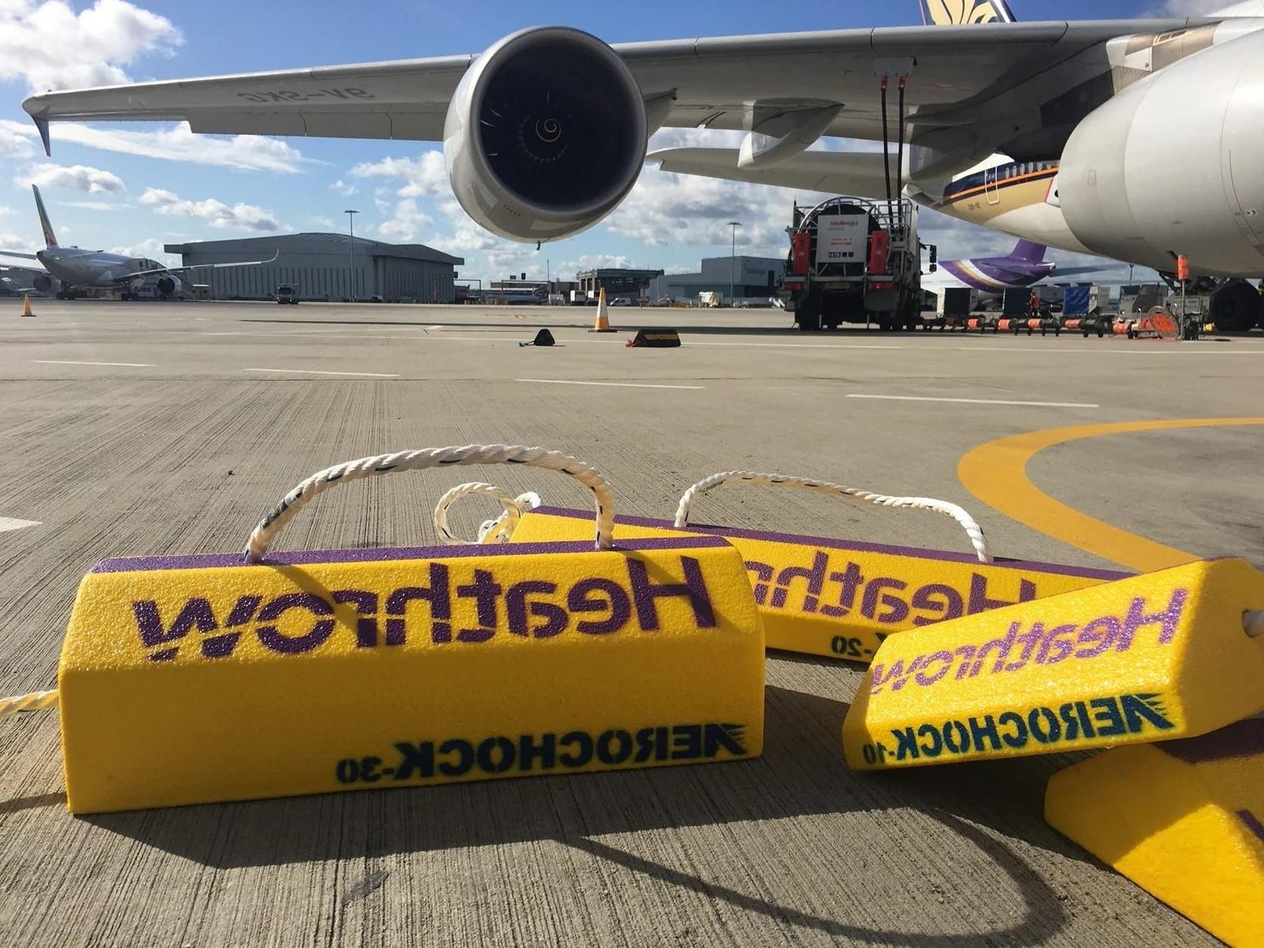chock: (57, 528, 769, 820), (507, 504, 1152, 671), (839, 554, 1260, 773), (1042, 722, 1264, 947)
